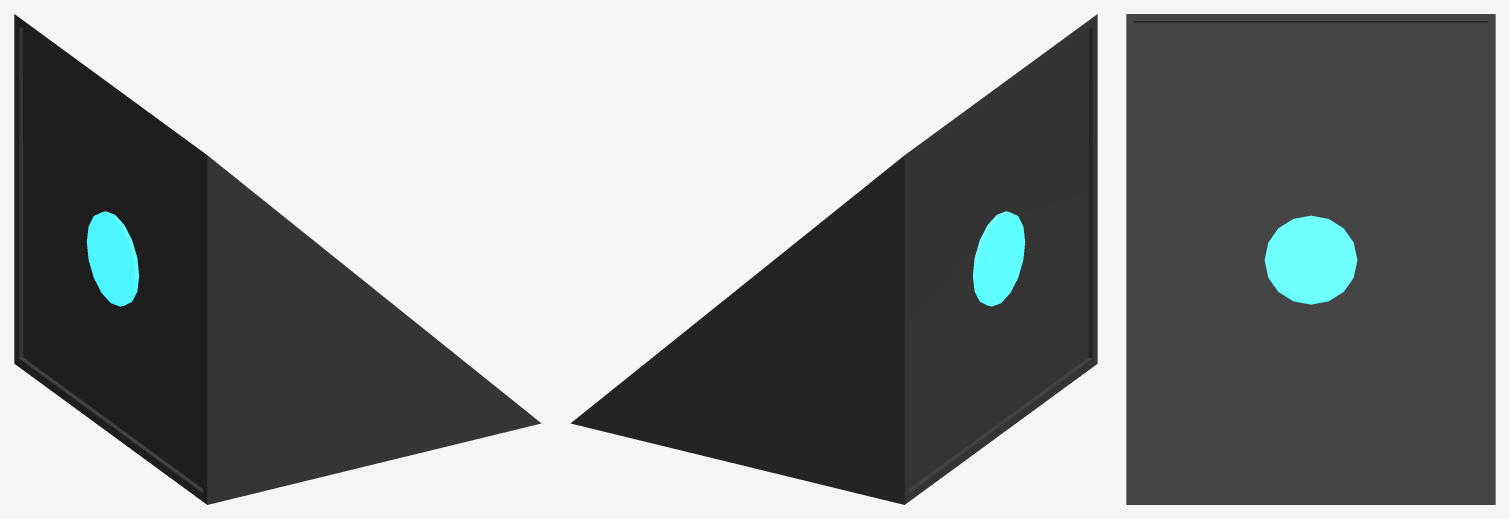
File: Slope Building Block Model.fbx
3 renders of one model, left to right at view 1: azimuth 30°, elevation 25°; view 2: azimuth 150°, elevation 25°; view 3: azimuth 270°, elevation 25°, orthographic. The views are drawn at different scales.
Parts seen in each view (by area): view 1: Slope Building Block; view 2: Slope Building Block; view 3: Slope Building Block.
Boxes of the visible parts, x1,y1,x2,y2 form: Slope Building Block: (14, 14, 541, 504); Slope Building Block: (570, 14, 1097, 504); Slope Building Block: (1126, 14, 1495, 504).
Bounding box in the file's own units: 200 × 200 × 200.
